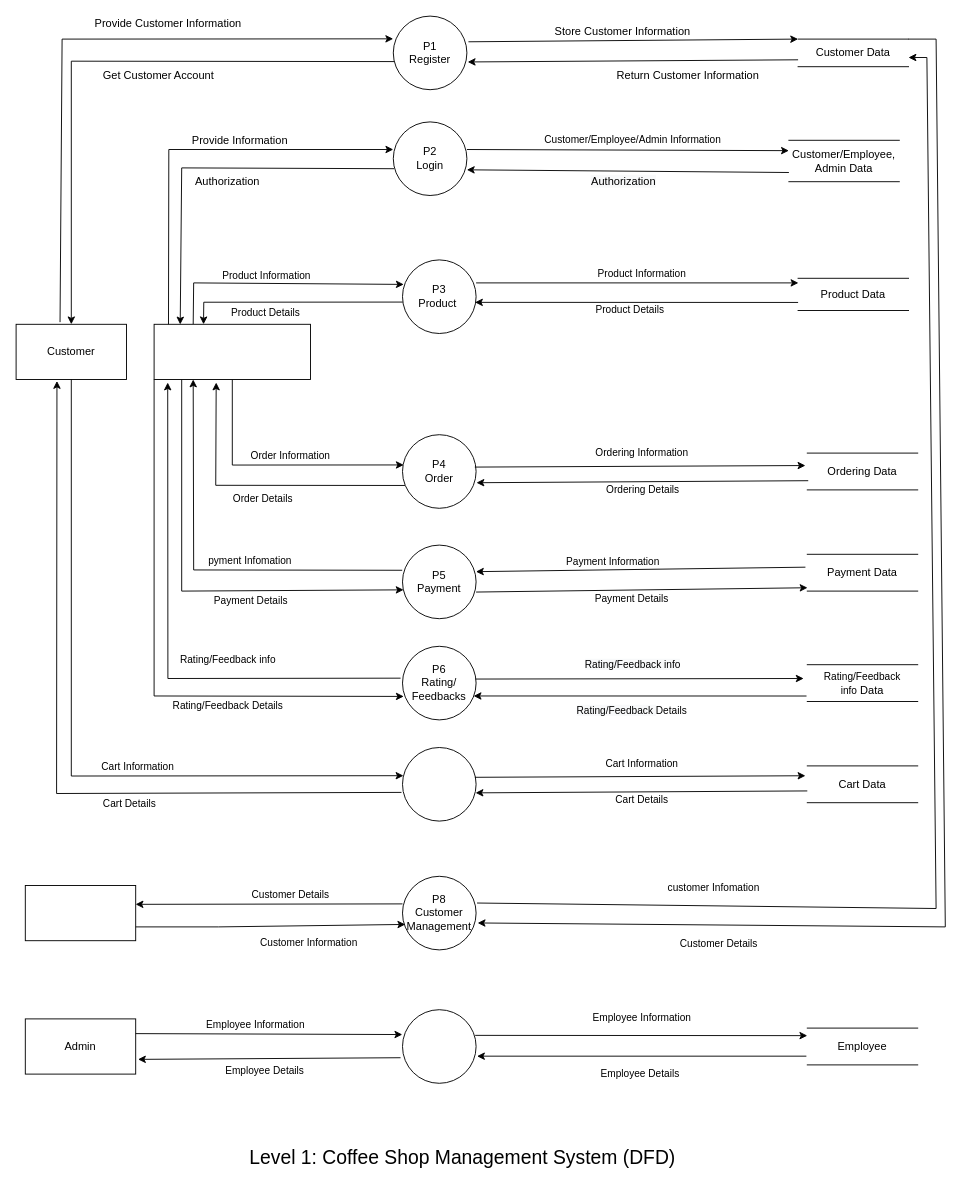
Image size: 969x1191. Some labels were removed from this diagram. Each missing label, with the box of its shape:
Customer/Employee/Admin: (153, 323, 310, 380)
Employee /Admin: (24, 885, 136, 941)
P7 Cart: (402, 747, 476, 821)
P9 Employee Management: (402, 1009, 476, 1083)
